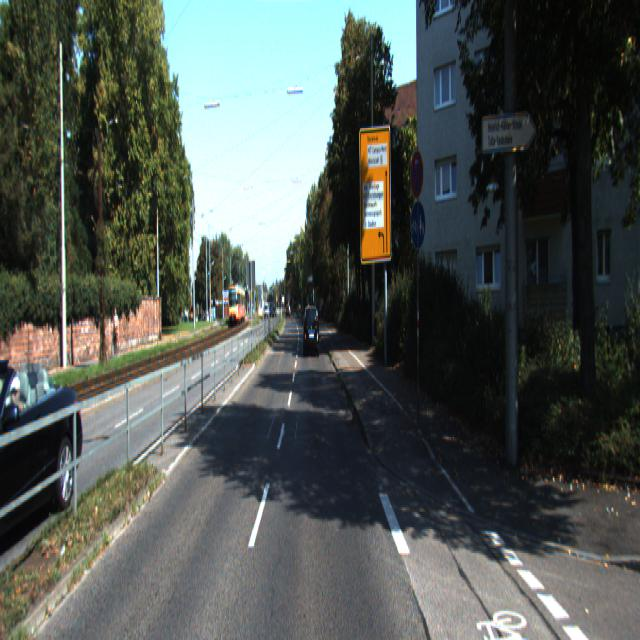Car: (0, 349, 85, 564), (304, 304, 320, 358), (229, 287, 245, 326)
